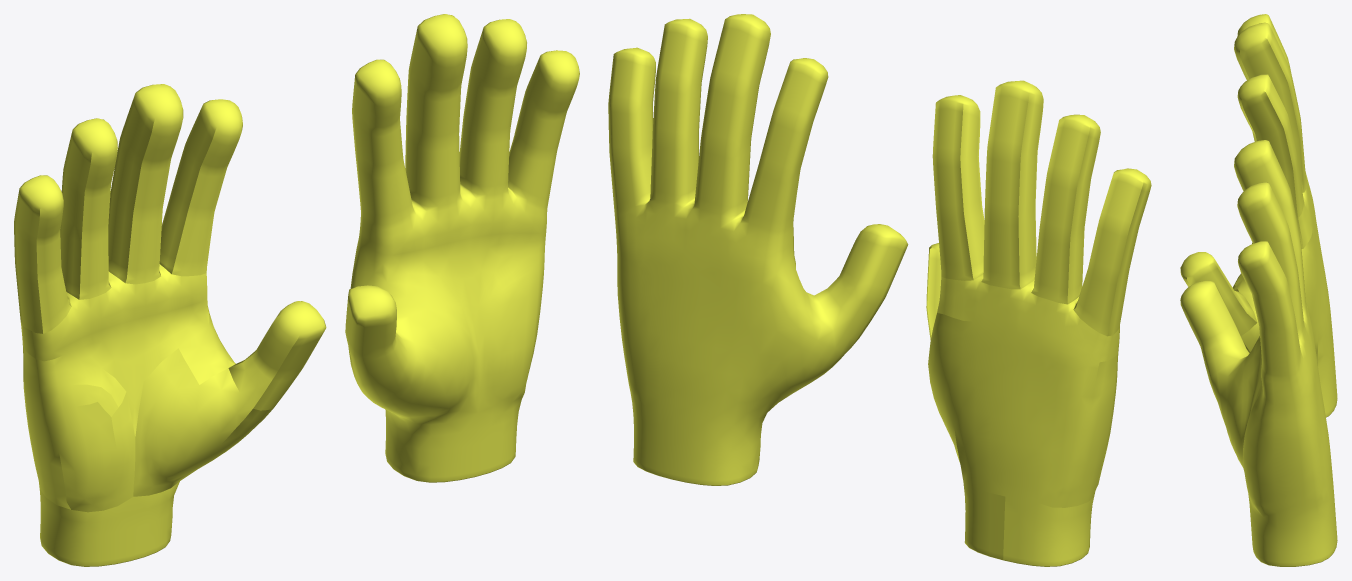
3 renders of one model, left to right at view 1: azimuth 30°, elevation 25°; view 2: azimuth 150°, elevation 25°; view 3: azimuth 270°, elevation 25°, orthographic. The views are drawn at different scales.
Visible parts, largest first — view 1: uploads_files_810024_Hand.001, uploads_files_810024_Hand; view 2: uploads_files_810024_Hand, uploads_files_810024_Hand.001; view 3: uploads_files_810024_Hand, uploads_files_810024_Hand.001.
Part boxes in pixels (box(x1,y1,x2,y2)): uploads_files_810024_Hand.001: box(14, 84, 326, 566); uploads_files_810024_Hand: box(345, 14, 579, 482); uploads_files_810024_Hand: box(608, 14, 908, 485); uploads_files_810024_Hand.001: box(926, 80, 1151, 566); uploads_files_810024_Hand: box(1180, 140, 1337, 566); uploads_files_810024_Hand.001: box(1180, 14, 1337, 417).
Size of the model in its own units: 3.55 by 2.84 by 1.03.
